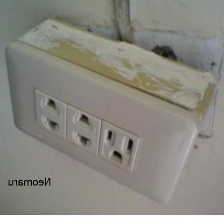three_eye_plug: (0, 8, 220, 206)
